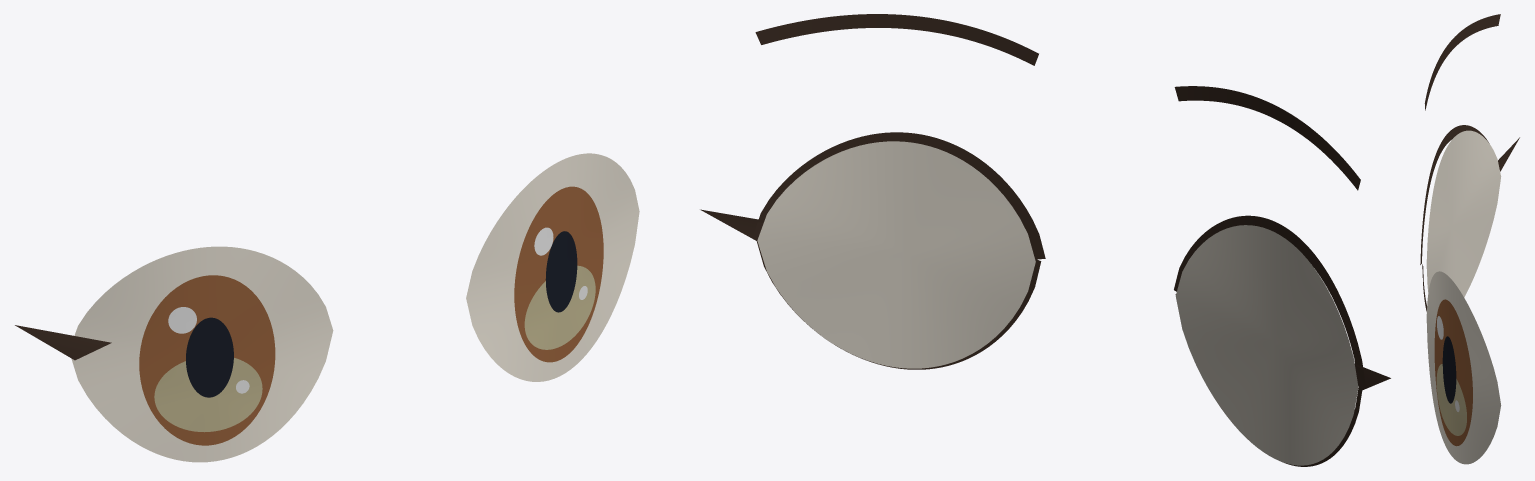
The picture shows the model from 3 angles, left to right: view 1: azimuth 30°, elevation 25°; view 2: azimuth 150°, elevation 25°; view 3: azimuth 270°, elevation 25°; orthographic projection. The views are drawn at different scales.
Parts seen in each view (by area): view 1: Eye_White_-1, Eye_White_1, Eye_Iris_-1, Eye_Iris_1, Eye_Iris_Light_-1, Eye_Iris_Light_1, Eye_Pupil_-1, Eye_Pupil_1, Eye_LashWing_-1; view 2: Eye_White_1, Eye_White_-1, Eyebrow_1, Eye_UpperLid_1, Eyebrow_-1, Eye_UpperLid_-1, Eye_LowerLid_1; view 3: Eye_White_-1, Eye_White_1, Eye_Iris_1, Eye_Iris_Light_1, Eyebrow_-1, Eye_Pupil_1, Eye_UpperLid_-1, Eye_LashWing_-1, Eye_Glint_1_0.
Part boxes in pixels (x1,y1,x2,y2): Eye_White_-1: (71,246,333,462); Eye_White_1: (466,153,639,381); Eye_Iris_-1: (139,275,275,445); Eye_Iris_1: (514,186,603,362); Eye_Iris_Light_-1: (154,358,262,432); Eye_Iris_Light_1: (524,265,595,349); Eye_Pupil_-1: (186,317,233,397); Eye_Pupil_1: (545,231,577,312); Eye_LashWing_-1: (15,325,111,360); Eye_White_1: (757,141,1035,368); Eye_White_-1: (1175,225,1358,465); Eyebrow_1: (755,14,1038,65); Eye_UpperLid_1: (753,132,1045,259); Eyebrow_-1: (1174,86,1360,190); Eye_UpperLid_-1: (1174,215,1365,385); Eye_LowerLid_1: (756,239,1041,369); Eye_White_-1: (1426,130,1501,297); Eye_White_1: (1426,271,1501,464); Eye_Iris_1: (1434,299,1472,446); Eye_Iris_Light_1: (1436,364,1466,435); Eyebrow_-1: (1424,14,1500,110); Eye_Pupil_1: (1442,336,1456,403); Eye_UpperLid_-1: (1420,125,1489,264); Eye_LashWing_-1: (1498,137,1519,171); Eye_Glint_1_0: (1437,316,1443,339).
Size of the model in its own units: 0.396 by 0.1944 by 0.0637.
